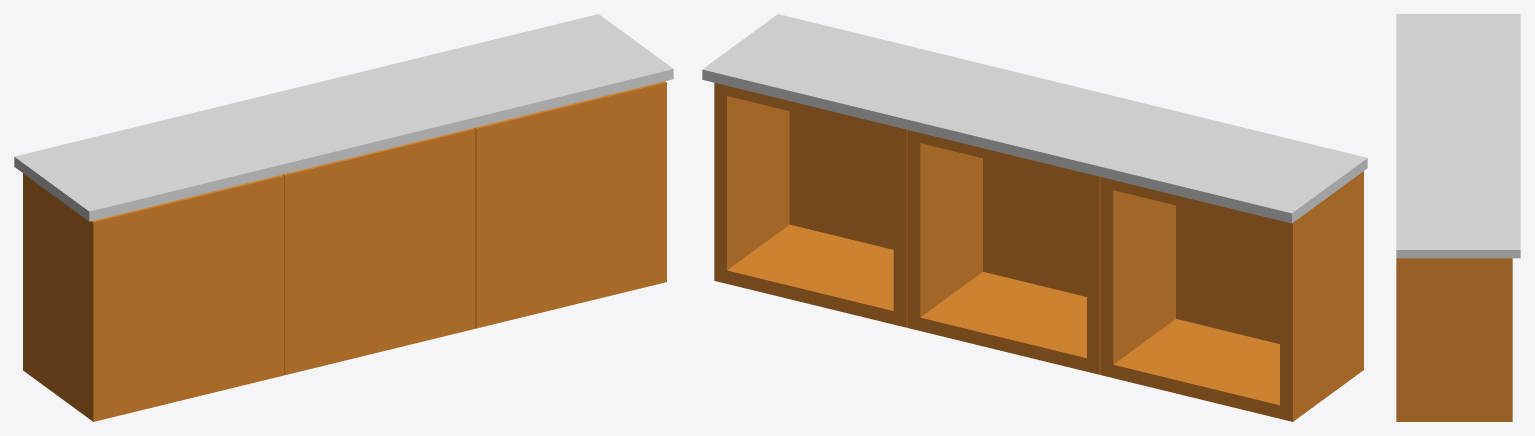
Rendered from shed_cabinet.fbx.
3 renders of one model, left to right at view 1: azimuth 30°, elevation 25°; view 2: azimuth 150°, elevation 25°; view 3: azimuth 270°, elevation 25°, orthographic. The views are drawn at different scales.
Visible parts, largest first — view 1: Cube.007, Cube.013, Cube.008, Cube.009; view 2: Cube.007, Cube.013, Cube.008, Cube.009; view 3: Cube.013, Cube.009.
Boxes of the visible parts, bbox=[...] form: Cube.007: bbox=[23, 173, 284, 421]; Cube.013: bbox=[14, 14, 673, 221]; Cube.008: bbox=[283, 128, 475, 374]; Cube.009: bbox=[474, 81, 666, 328]; Cube.007: bbox=[1100, 171, 1363, 421]; Cube.013: bbox=[702, 14, 1367, 223]; Cube.008: bbox=[907, 130, 1100, 374]; Cube.009: bbox=[714, 82, 907, 327]; Cube.013: bbox=[1396, 14, 1520, 258]; Cube.009: bbox=[1396, 258, 1512, 421].
Bounding box in the file's own units: 613 × 212 × 137.
